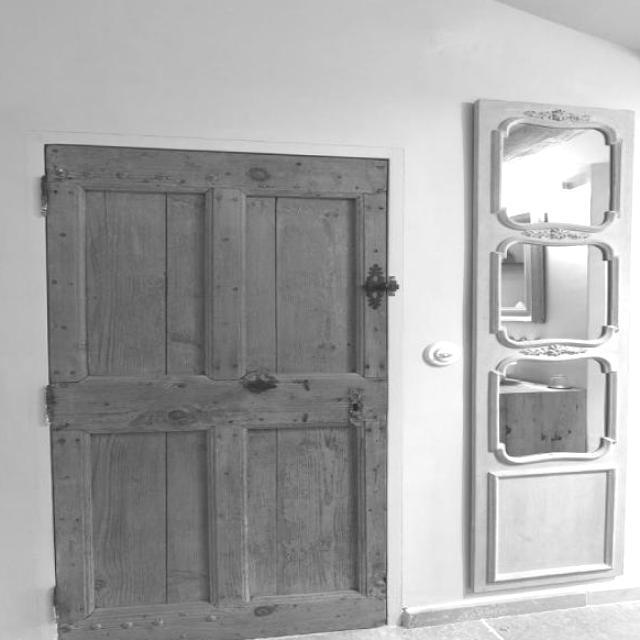door: (42, 142, 393, 638)
